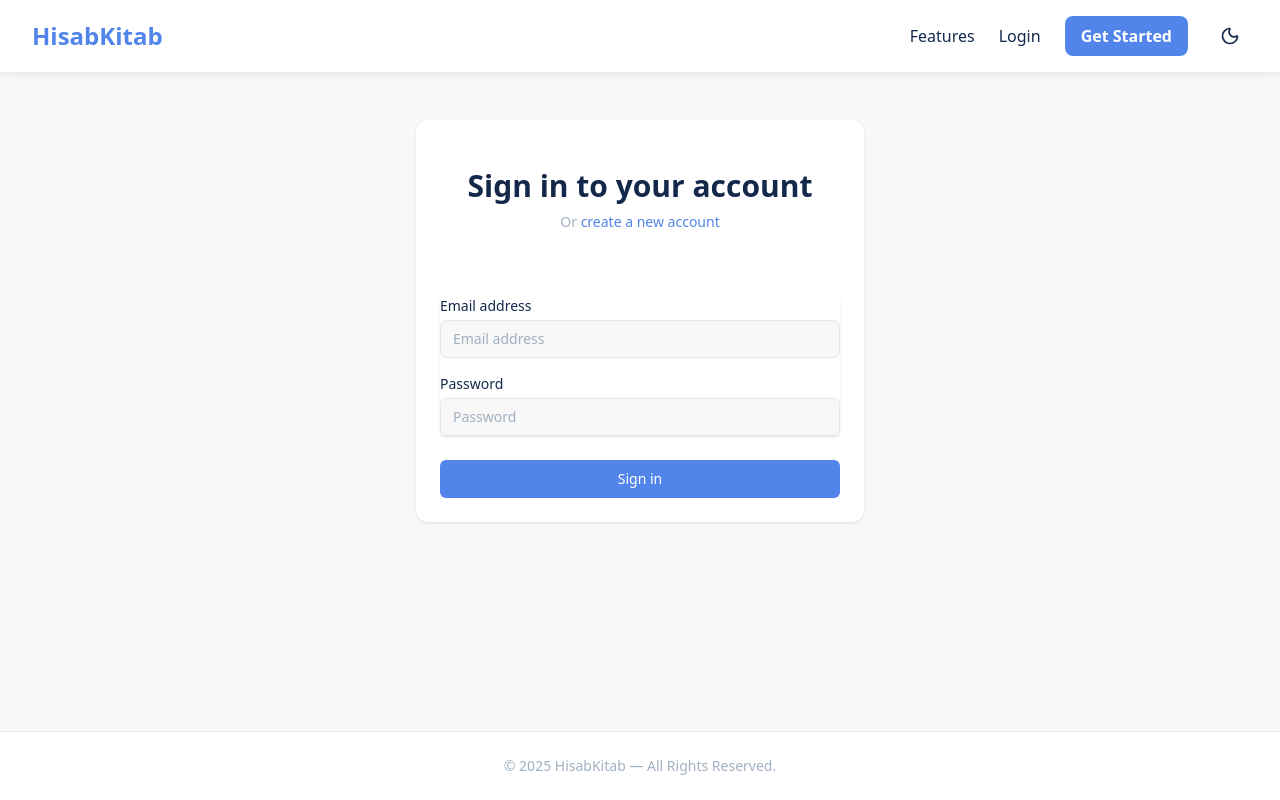
Test: Login Page › should show an error message on failed login
This screenshot has width=1280, height=800.
Note: Fill out with wrong credentials
In the field labelled "Email address": [640, 339] box [440, 320, 840, 358], type "wrong@hisabkitab.com"
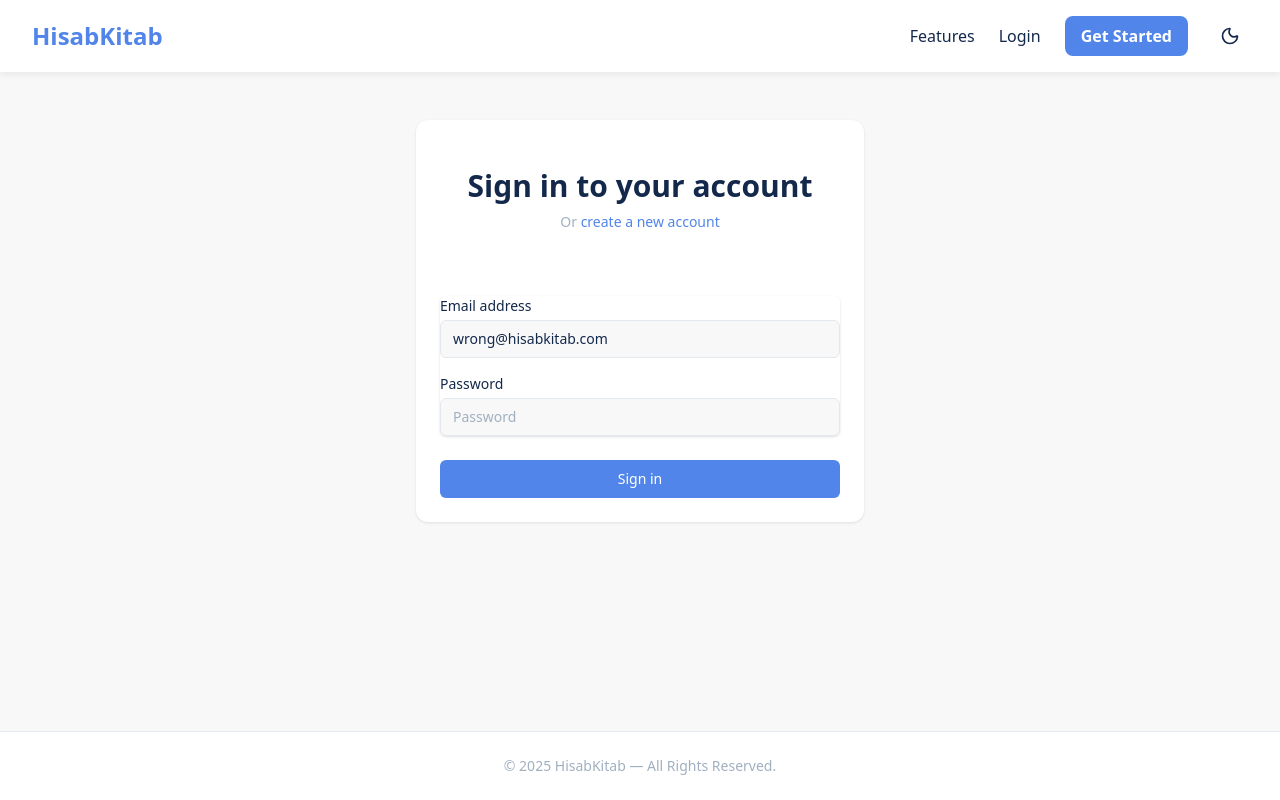
In the password field labelled "Password": [640, 417] box [440, 398, 840, 436], type "wrongpass"
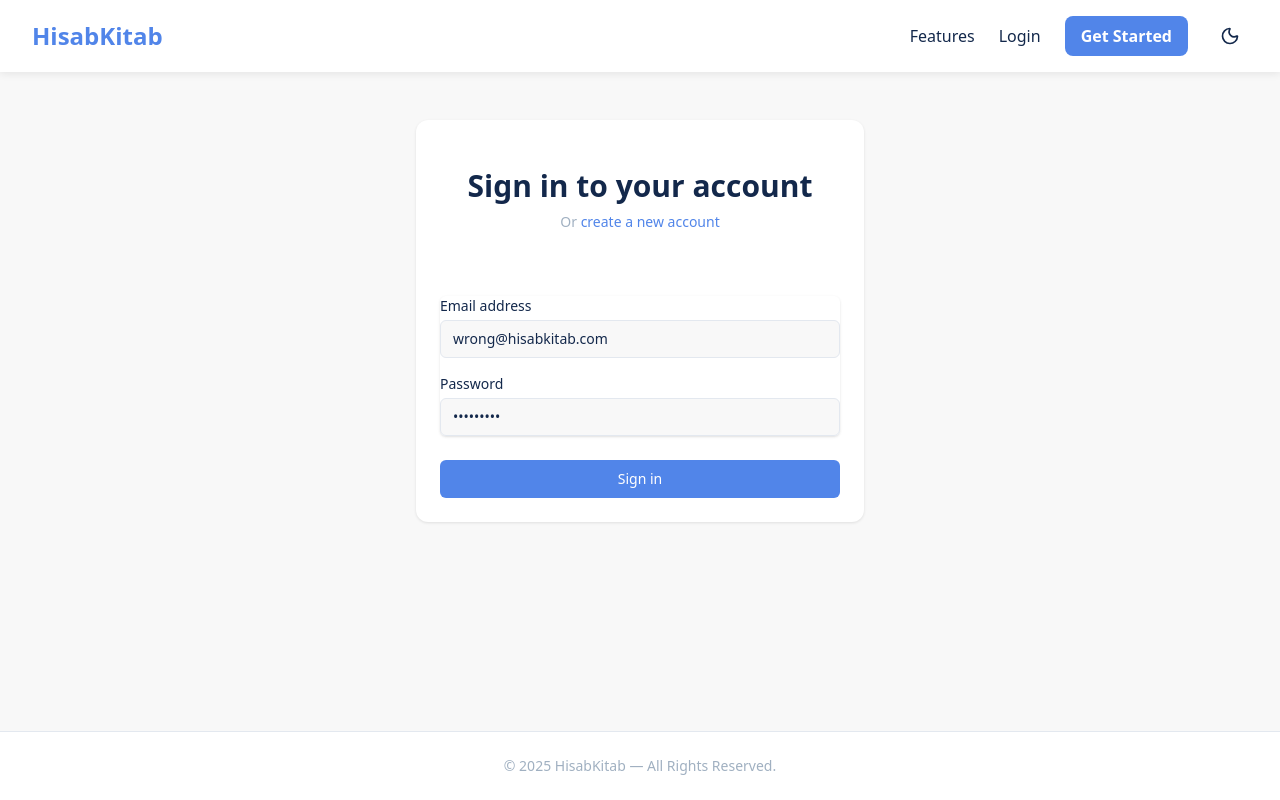
Click the button "Sign in": [640, 479] box [440, 460, 840, 498]
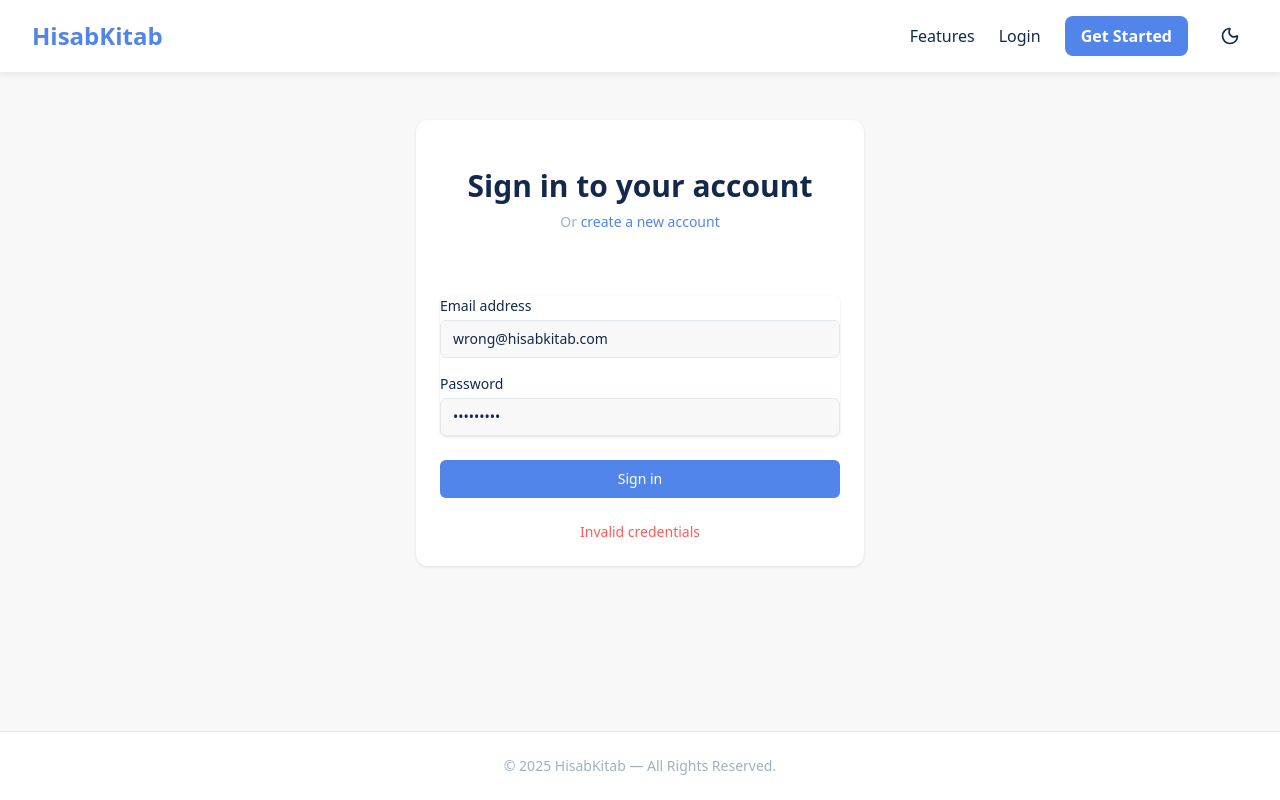
expect the text "Invalid credentials" is shown: met, box [580, 522, 700, 541]
